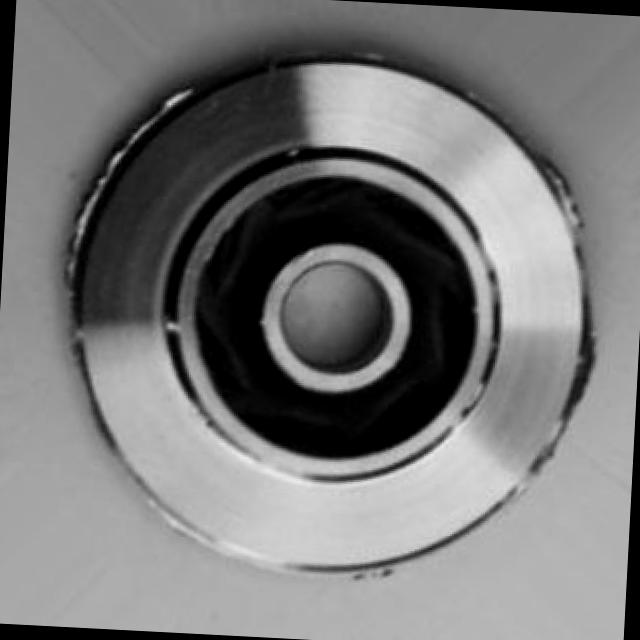Defect: (538, 152, 592, 207)
